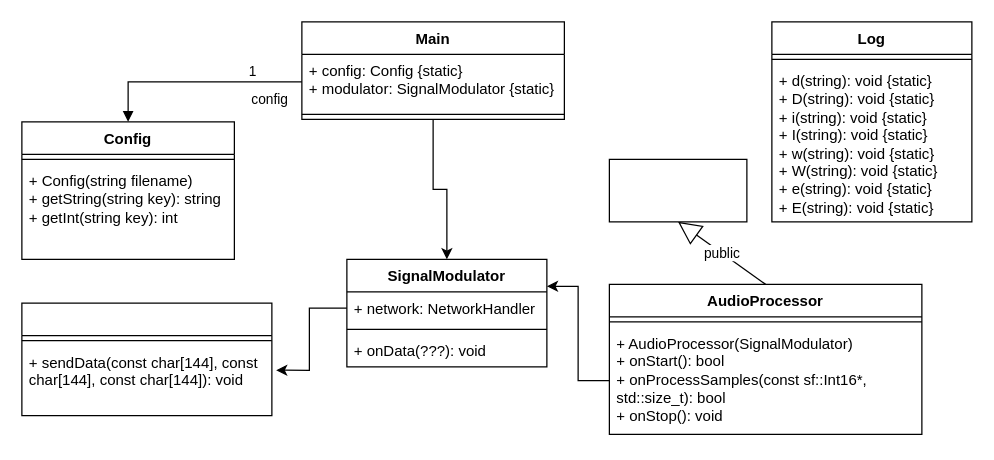
Image size: 994x460. Some labels were removed from this diagram. Here are the shapes that lost their labels. From the top down, the box of each, then its label:
(608, 158, 747, 222): sf::SoundRecorder
(21, 302, 272, 416): NetworkHandler
